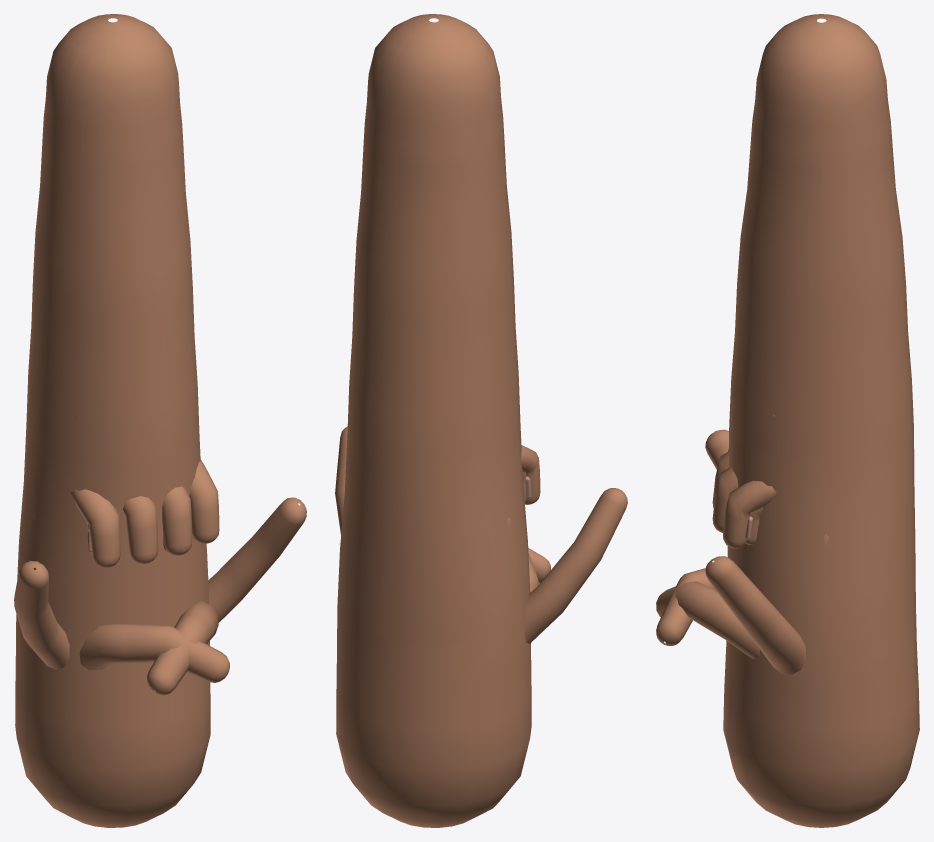
File: bras.glb
3 renders of one model, left to right at view 1: azimuth 30°, elevation 25°; view 2: azimuth 150°, elevation 25°; view 3: azimuth 270°, elevation 25°, orthographic.
Visible parts, largest first — view 1: bras_d, bras_g, poing_g, poing_d, main_d, main_g; view 2: bras_g, bras_d, main_g, poing_g, main_d; view 3: bras_d, bras_g, poing_d, main_d, poing_g, main_g.
Boxes of the visible parts, box(x1,y1,x2,y2) form: bras_d: box(17, 15, 210, 827); bras_g: box(15, 14, 210, 827); poing_g: box(70, 489, 229, 682); poing_d: box(86, 459, 219, 695); main_d: box(208, 497, 306, 622); main_g: box(14, 418, 76, 669); bras_g: box(336, 15, 530, 827); bras_d: box(336, 14, 531, 827); main_g: box(506, 383, 627, 643); poing_g: box(521, 445, 540, 592); main_d: box(335, 426, 347, 534); bras_d: box(724, 14, 919, 827); bras_g: box(723, 14, 918, 827); poing_d: box(656, 467, 776, 659); main_d: box(705, 415, 829, 674); poing_g: box(656, 448, 762, 645); main_g: box(705, 429, 728, 469).
Bounding box in the file's own units: 0.1663 × 0.4478 × 0.1342.
